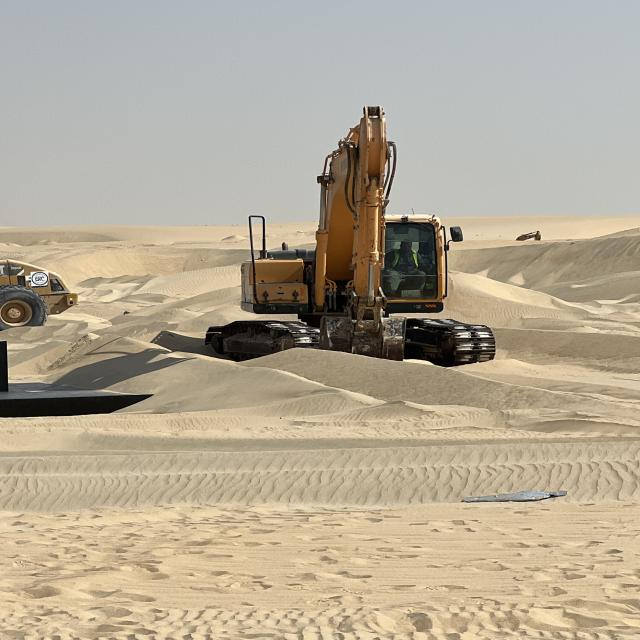Excavator: (203, 100, 496, 366)
